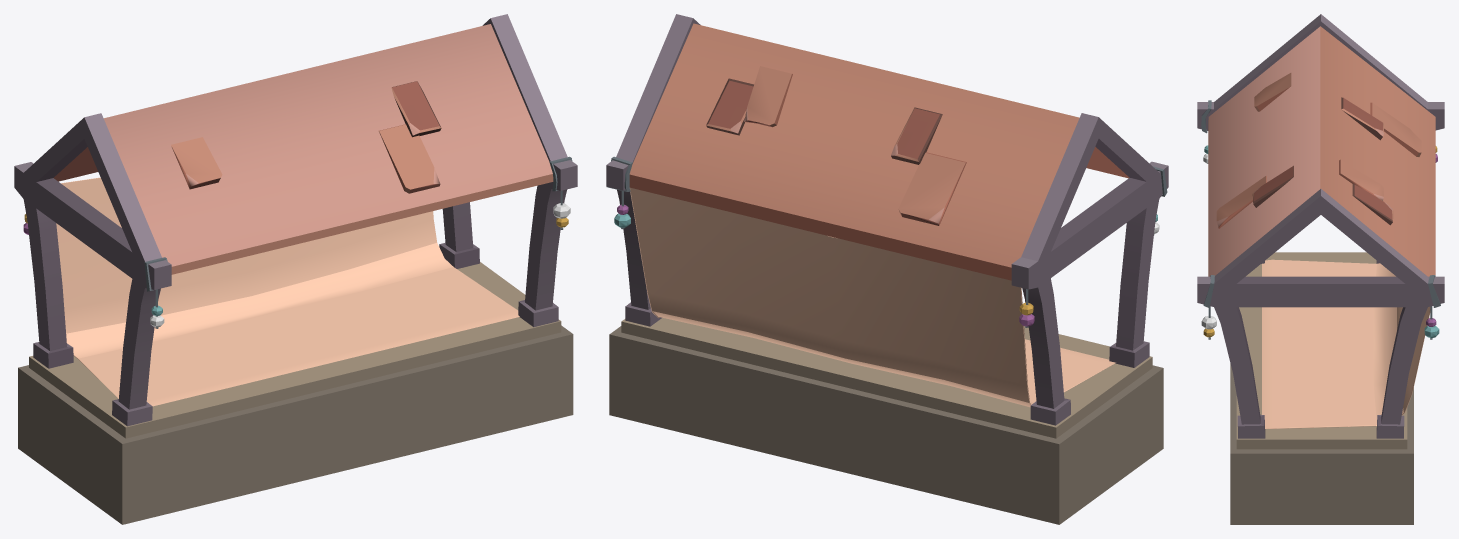
File: Cover.fbx
3 views of the same model, side by side, from view 1: azimuth 30°, elevation 25°; view 2: azimuth 150°, elevation 25°; view 3: azimuth 270°, elevation 25° (orthographic). The views are drawn at different scales.
Parts seen in each view (by area): view 1: Cover1; view 2: Cover1; view 3: Cover1, Decor1.
Boxes of the visible parts, x1,y1,x2,y2 form: Cover1: (14,14,577,524); Cover1: (606,14,1168,524); Cover1: (1197,14,1444,524); Decor1: (1201,306,1216,339).
Size of the model in its own units: 2.87 by 2.23 by 1.55.
Materials: 1 (1 with a texture image).
